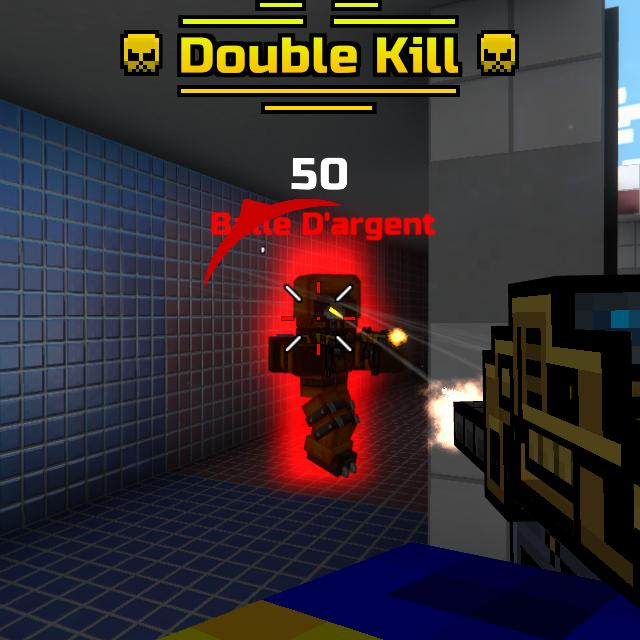Enemy: (270, 269, 377, 475)
